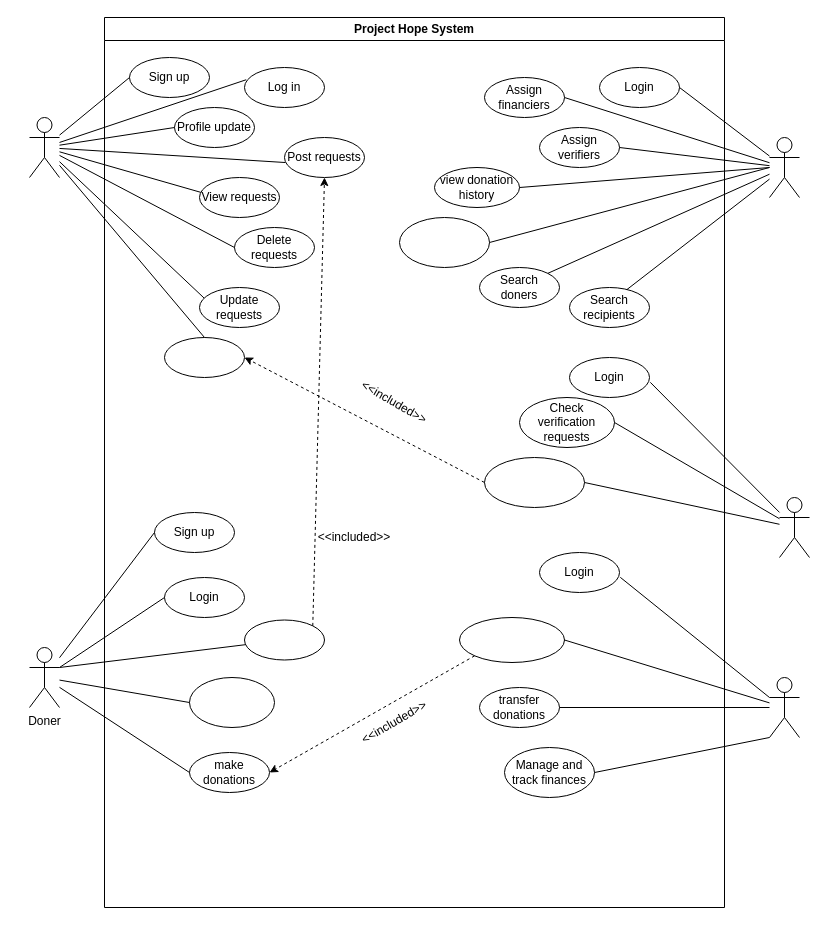
Some shapes in this 830 by 925 pixel diagram are drawn without their labels. Here are the shapes that lost their labels. From the top down, the centre of each, then its label:
the point at 44,147: Recepient
the point at 784,167: Admin
the point at 444,242: view transaction logs
the point at 204,357: Request verification
the point at 534,482: Update verification requests
the point at 794,527: Verifier
the point at 284,639: View posts
the point at 511,639: View donations made
the point at 231,702: Update profile
the point at 784,707: Financier
